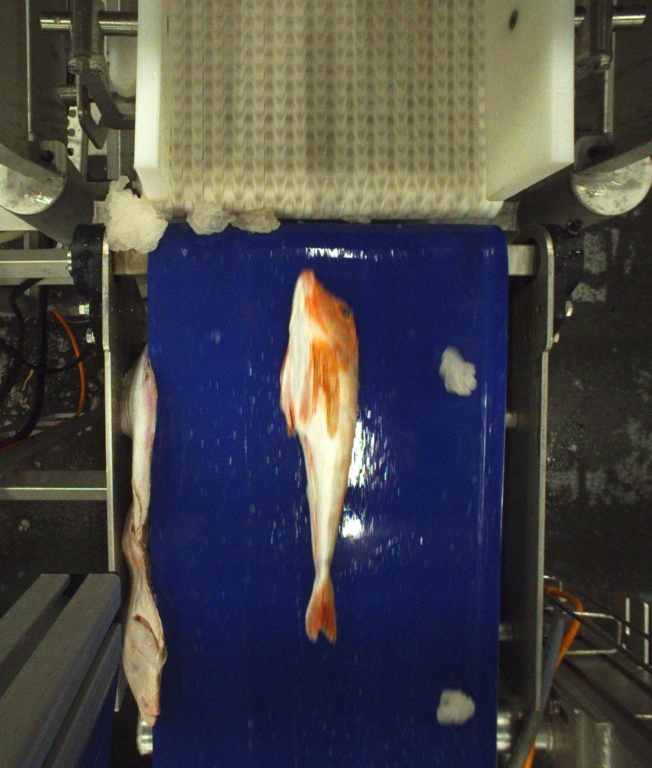GUU: (280, 268, 359, 645)
